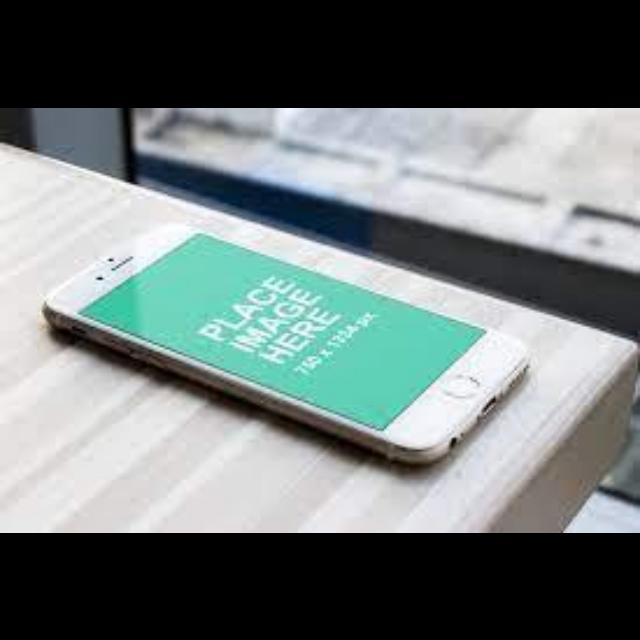Phone: (50, 221, 522, 474)
